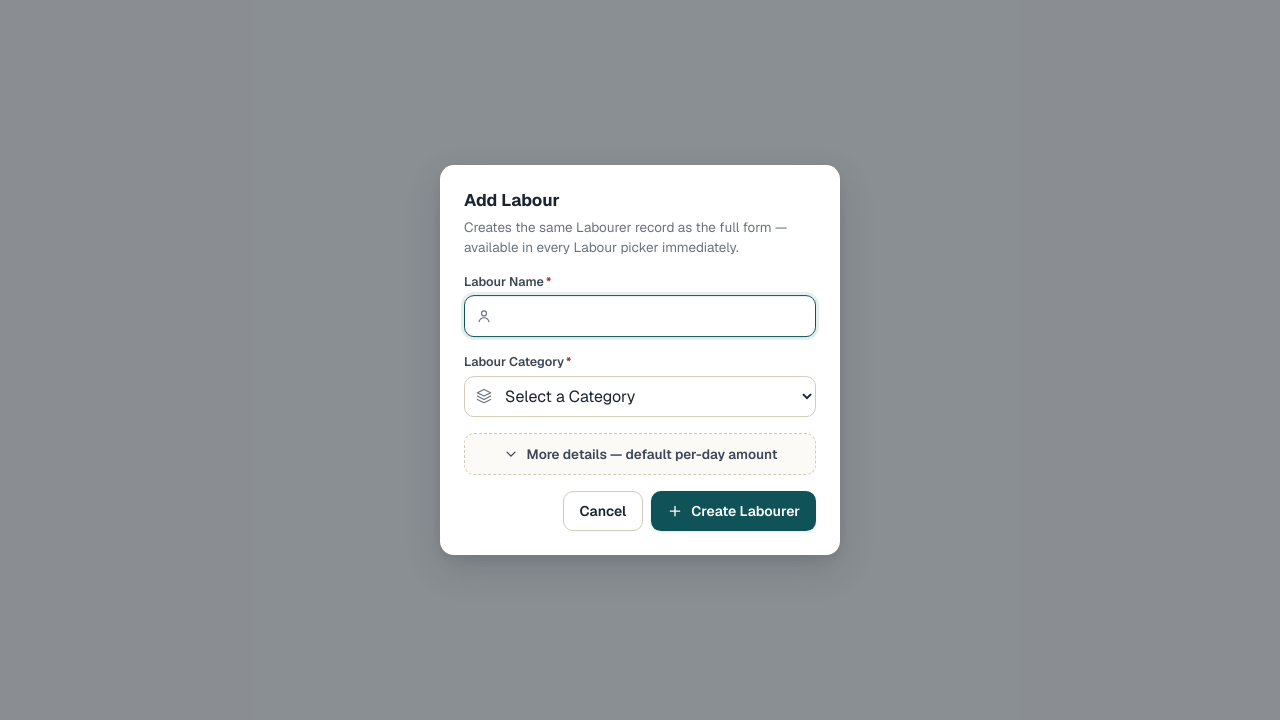
DailyLabourerQuickCreateModal › surfaces a server-side validation error inline, keyed to the field
Step 1. Type "Ramesh" into the field labelled "Labour Name" → [640, 316], box [464, 296, 816, 338]
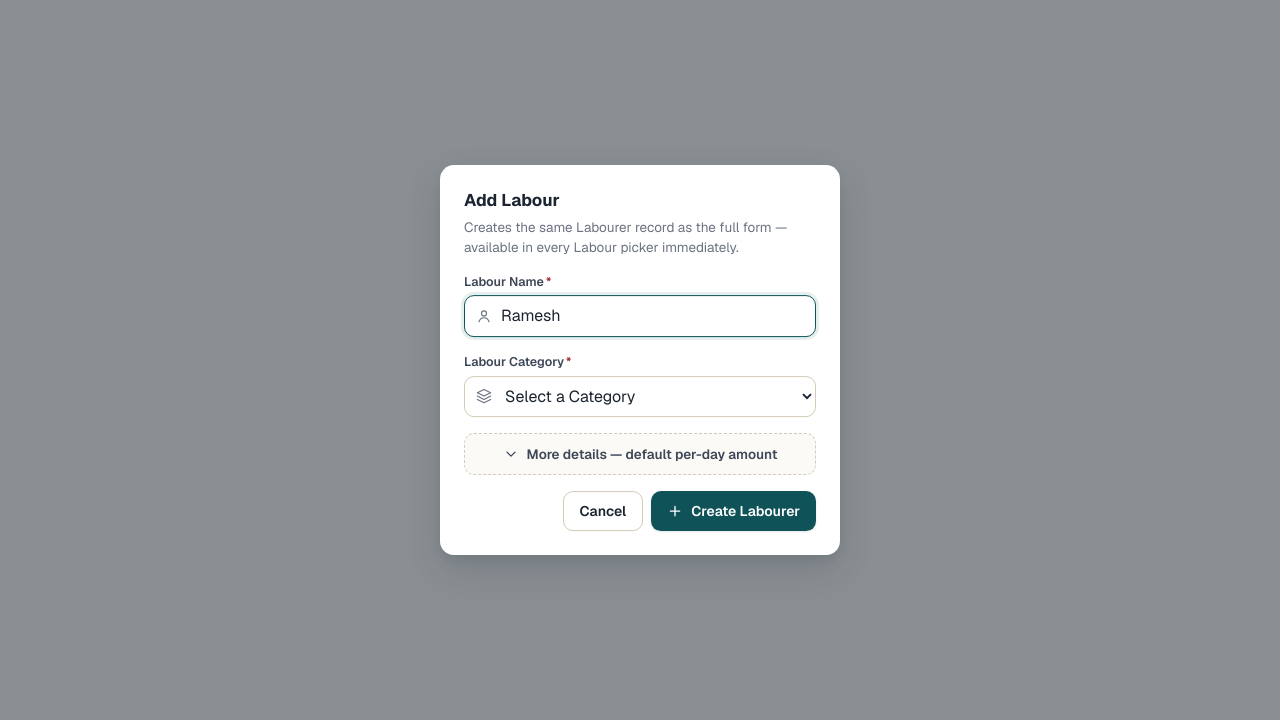
Step 2. Select "Mistri" in the dropdown labelled "Labour Category" → [640, 396], box [464, 376, 816, 417]
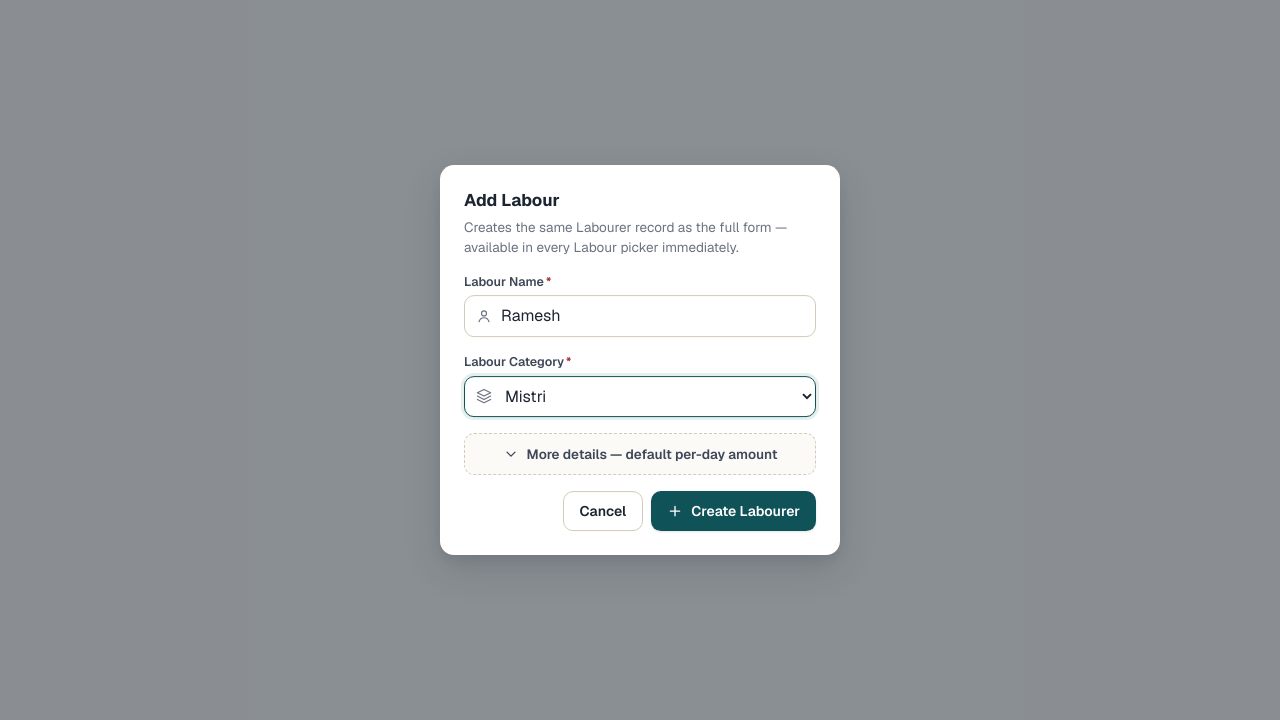
Step 3. Click the button "Create Labourer" → [734, 511], box [651, 491, 816, 531]
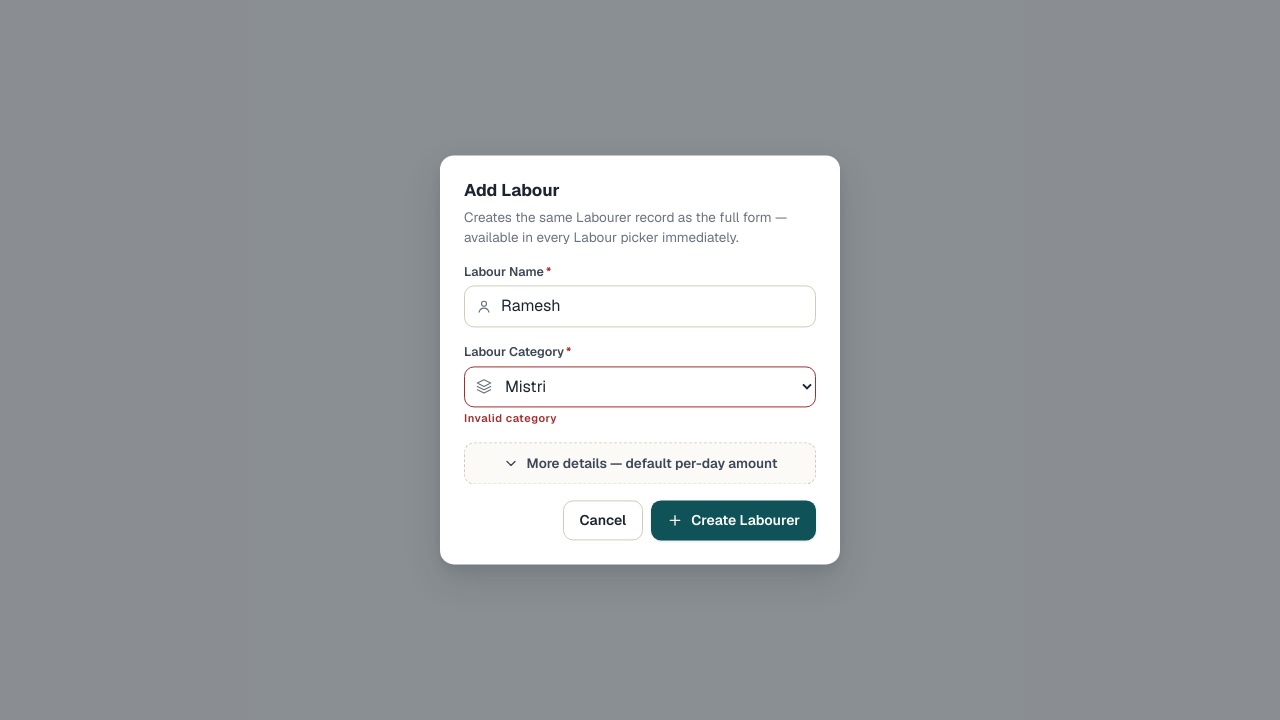
Now the text "Invalid category" is shown, box [464, 411, 557, 425]
